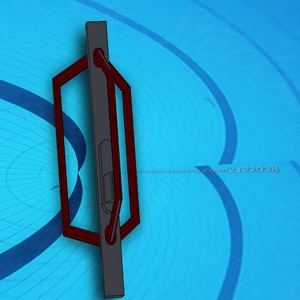submarine: (47, 18, 146, 300)
